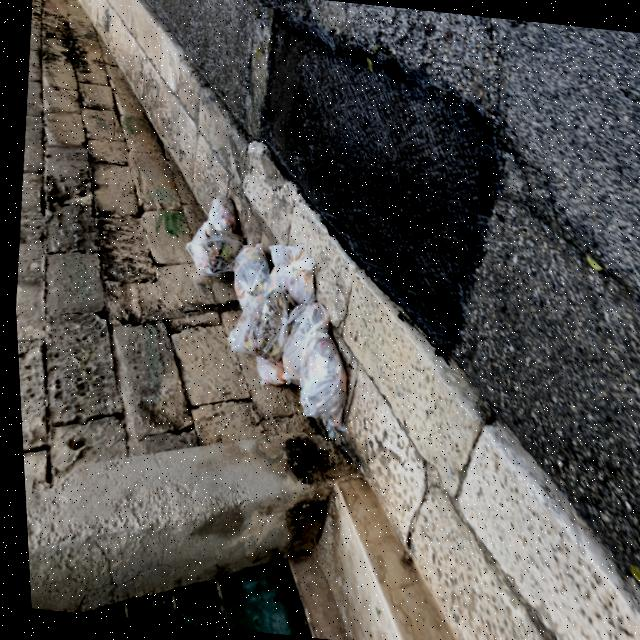Organic Waste -White Bag-: (245, 294, 334, 400), (285, 314, 362, 436), (175, 190, 248, 288), (211, 234, 278, 325), (215, 288, 289, 367), (258, 241, 318, 304)
